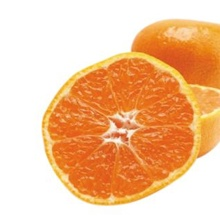mandarin: (42, 49, 200, 206), (129, 20, 220, 94), (186, 82, 219, 159)
